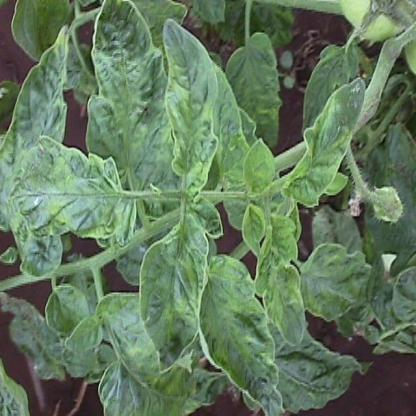tomato leaf mosaic virus: (203, 250, 289, 412), (16, 139, 133, 242), (140, 208, 210, 373), (284, 72, 366, 205), (162, 16, 220, 188), (99, 6, 155, 159), (257, 214, 305, 348), (300, 244, 379, 318), (244, 137, 276, 198), (67, 317, 105, 358)
